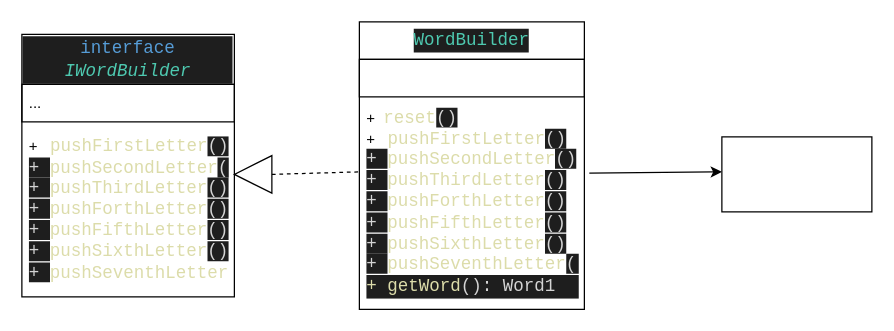
Image size: 894x331. Some labels were removed from this diagram. The box of each missing label's shape, as (x1, y1, x2, y2) in pixels:
- word: Word1: (358, 58, 584, 97)
Word1: (721, 136, 872, 212)
